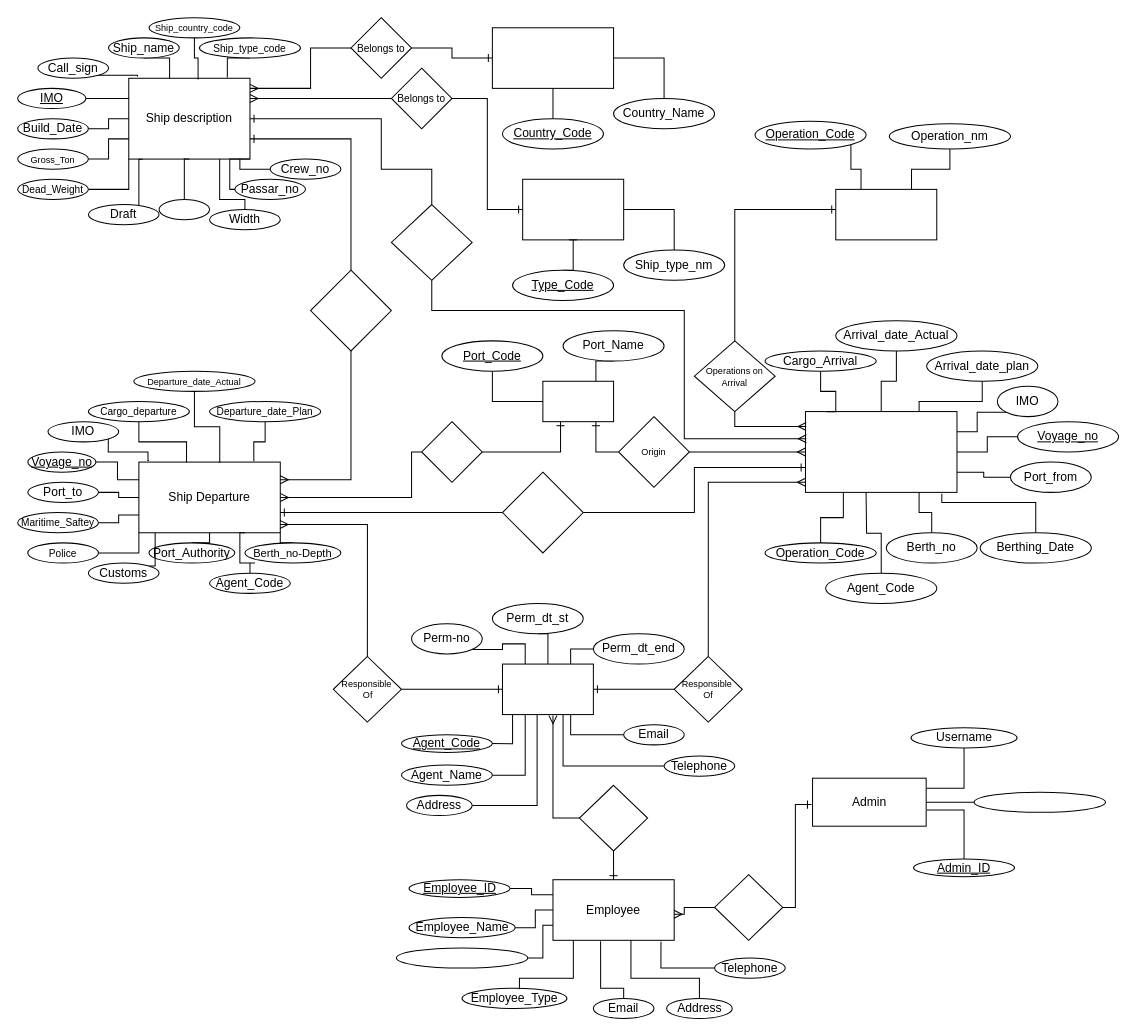
The diagram is 1136 pixels wide and 1036 high, and some of its shapes have lost their labels. Each missing label, with the centre of its shape:
Admin_Password: the point at 1039,801
Agents: the point at 547,689
Arriving Ship Description: the point at 431,242
call: the point at 613,817
Countries: the point at 552,57
Create: the point at 748,907
Departing Ship Description: the point at 350,310
Destination: the point at 451,451
Employee_Password: the point at 461,957
Length: the point at 184,209
Operations: the point at 886,214
Ports: the point at 578,401
Ship Arrival: the point at 880,451
Ship Types: the point at 573,209
Voyage: the point at 542,512
